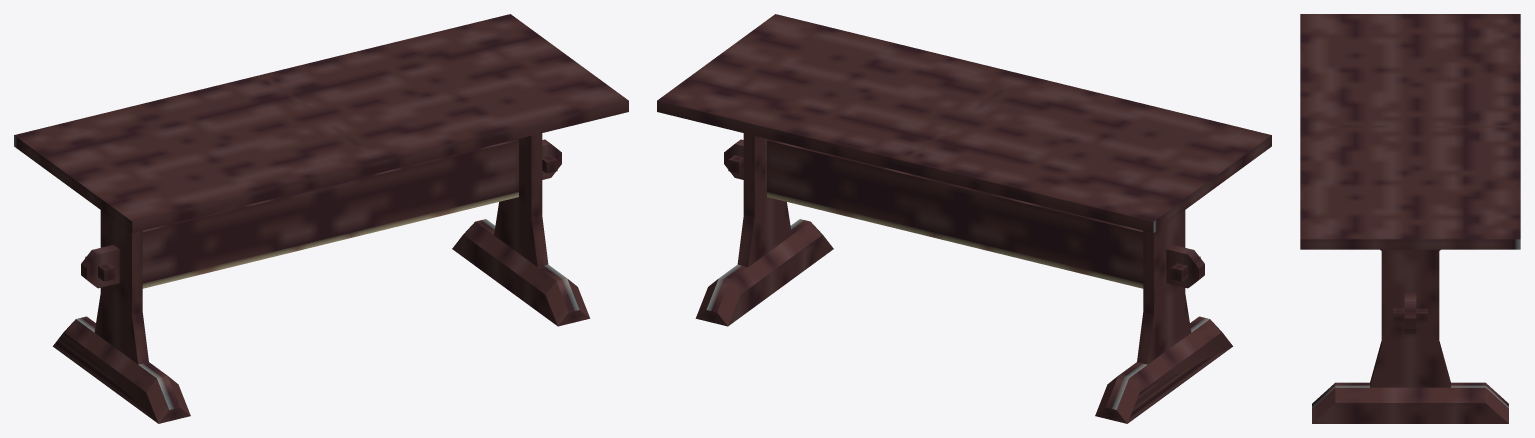
Rendered from Desk.fbx.
3 views of the same model, side by side, from view 1: azimuth 30°, elevation 25°; view 2: azimuth 150°, elevation 25°; view 3: azimuth 270°, elevation 25° (orthographic). The views are drawn at different scales.
Visible parts, largest first — view 1: Desk; view 2: Desk; view 3: Desk.
Part boxes in pixels (x1,y1,x2,y2): Desk: [14, 14, 628, 423]; Desk: [657, 14, 1271, 423]; Desk: [1300, 14, 1520, 423].
Size of the model in its own units: 2.88 by 1.19 by 1.19.
